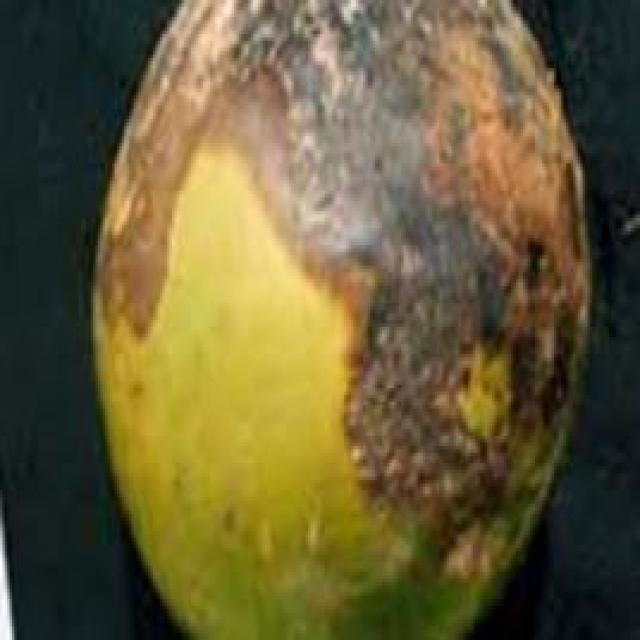damaged: (93, 0, 590, 637)
